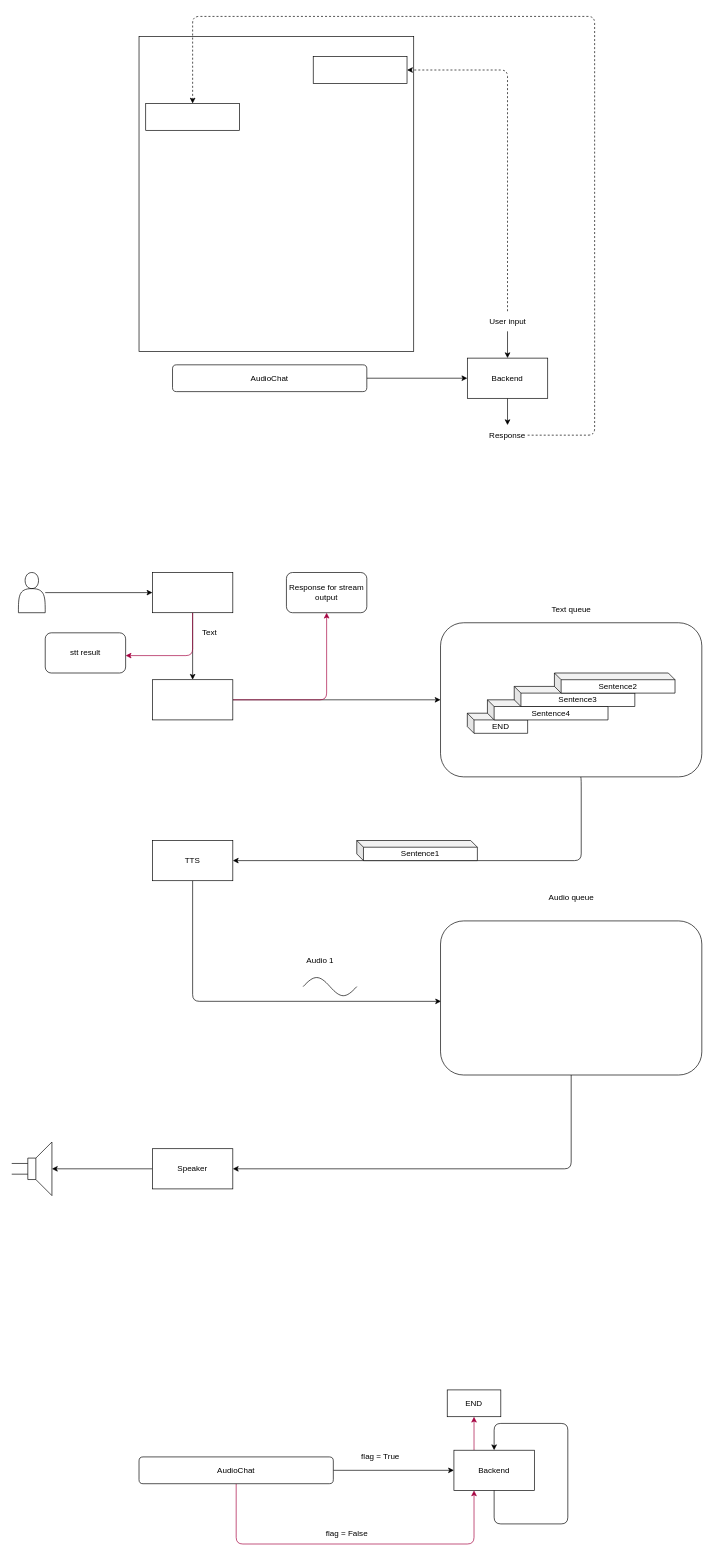
Some shapes in this 714 by 1561 pixel diagram are drawn without their labels. The shapes that lost their labels are listed below. From the top down, each one's centre as x and y in pixels, then its label:
At point 192,592: "STT".
At point 192,699: "LLM".
